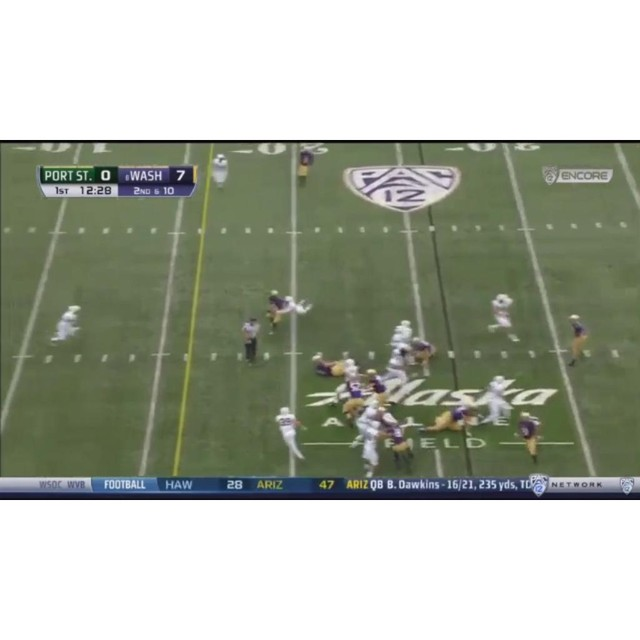american-football-player: (417, 397, 472, 441), (475, 375, 516, 427), (266, 290, 311, 334), (382, 340, 414, 396), (275, 407, 306, 461), (488, 294, 520, 343), (384, 419, 414, 470), (515, 410, 542, 465), (358, 421, 384, 478), (350, 398, 380, 447), (48, 305, 82, 345), (566, 314, 591, 368), (409, 335, 437, 378), (311, 352, 349, 379), (365, 368, 391, 407), (295, 143, 316, 188), (211, 153, 230, 195)
referee: (240, 316, 262, 366)
